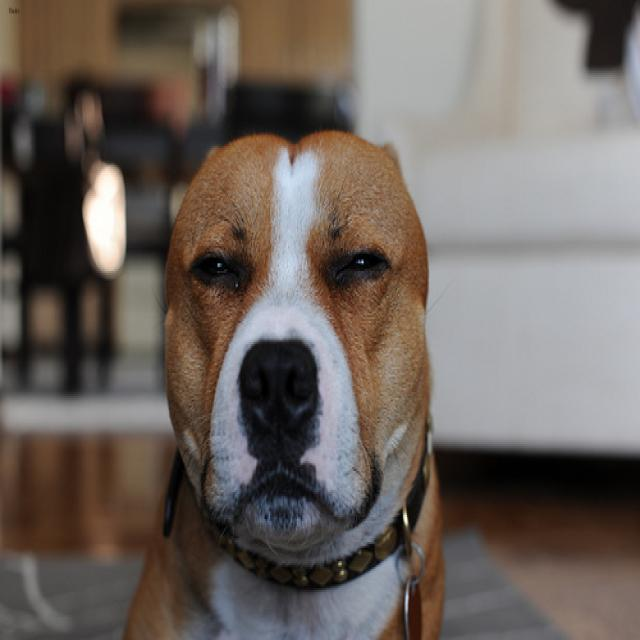dog-staffordshire_bull_terrier: (113, 121, 457, 636)
